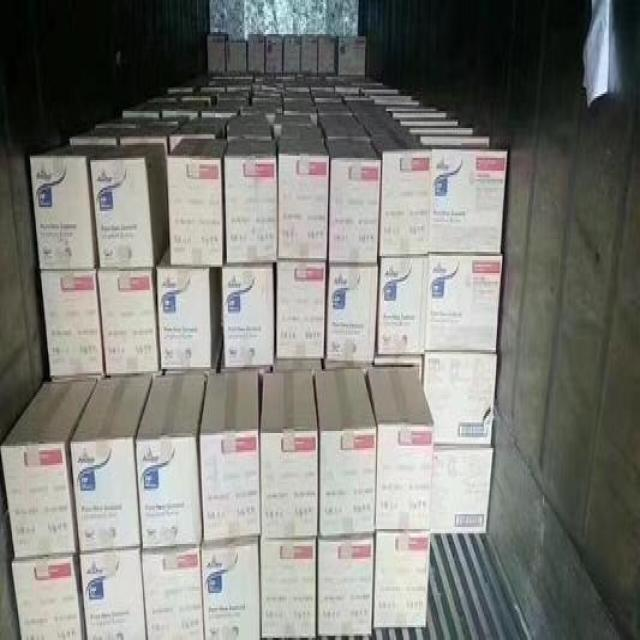box: (1, 380, 97, 557), (70, 378, 151, 557), (136, 375, 205, 546), (365, 369, 435, 531), (30, 143, 113, 269), (199, 371, 259, 542), (316, 371, 376, 535), (90, 143, 168, 269), (261, 371, 318, 540), (427, 145, 508, 252), (157, 247, 222, 369), (167, 139, 228, 267), (425, 254, 502, 352), (371, 132, 431, 256), (325, 139, 382, 262), (41, 269, 104, 378), (423, 352, 496, 444), (97, 269, 160, 373), (79, 546, 148, 640), (223, 139, 276, 260), (12, 555, 85, 640), (140, 544, 204, 640), (199, 538, 259, 640), (279, 141, 329, 260), (430, 446, 494, 535), (317, 535, 373, 636), (222, 262, 275, 367), (373, 533, 431, 627), (261, 540, 316, 636), (376, 258, 429, 356), (328, 262, 378, 363), (277, 262, 325, 358), (120, 126, 179, 154), (168, 124, 223, 151), (375, 356, 423, 386), (68, 126, 134, 145), (319, 115, 370, 139), (335, 36, 366, 75), (415, 134, 490, 147), (363, 117, 406, 139), (273, 113, 311, 137), (161, 98, 207, 117), (122, 100, 173, 117), (283, 102, 317, 126), (208, 32, 229, 70), (300, 34, 317, 73), (229, 126, 271, 141), (283, 36, 300, 73), (353, 107, 390, 124), (97, 117, 151, 128), (318, 36, 334, 73), (267, 34, 282, 73), (227, 41, 247, 70), (249, 36, 264, 73), (228, 113, 270, 126), (400, 119, 457, 128), (142, 117, 187, 128), (274, 361, 321, 371), (281, 128, 323, 139), (317, 102, 352, 115), (345, 100, 379, 113), (202, 107, 240, 117), (325, 361, 367, 369), (227, 77, 252, 90), (393, 113, 447, 119), (217, 90, 249, 100), (313, 92, 342, 102), (199, 85, 225, 96), (340, 92, 370, 100), (310, 81, 335, 90), (375, 100, 419, 105), (285, 92, 311, 100), (286, 81, 309, 90), (169, 85, 196, 92), (252, 96, 282, 102), (371, 96, 411, 100), (366, 90, 397, 94)
